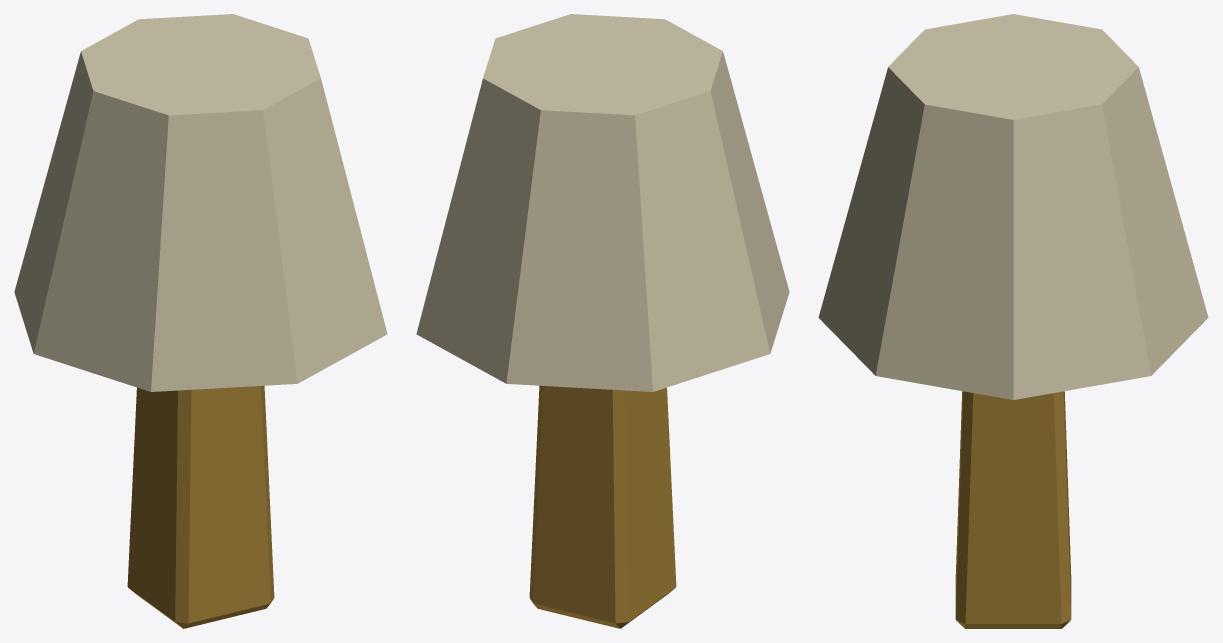
The model's file is table-lamp-02.glb.
3 renders of one model, left to right at view 1: azimuth 30°, elevation 25°; view 2: azimuth 150°, elevation 25°; view 3: azimuth 270°, elevation 25°, orthographic.
Visible parts, largest first — view 1: table_lamp_02; view 2: table_lamp_02; view 3: table_lamp_02.
Part boxes in pixels (x1,y1,x2,y2): table_lamp_02: (14,14,387,628); table_lamp_02: (416,14,789,628); table_lamp_02: (818,14,1208,628).
Size of the model in its own units: 0.3182 by 0.4876 by 0.3182.
